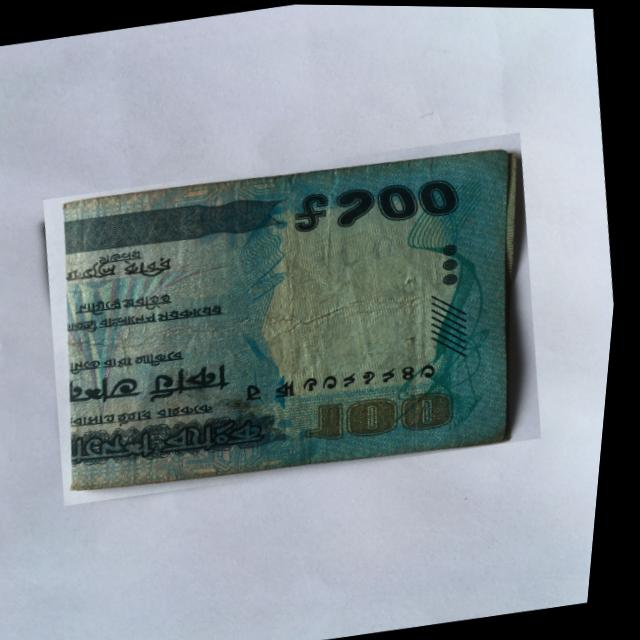Taka: (26, 125, 571, 511)
